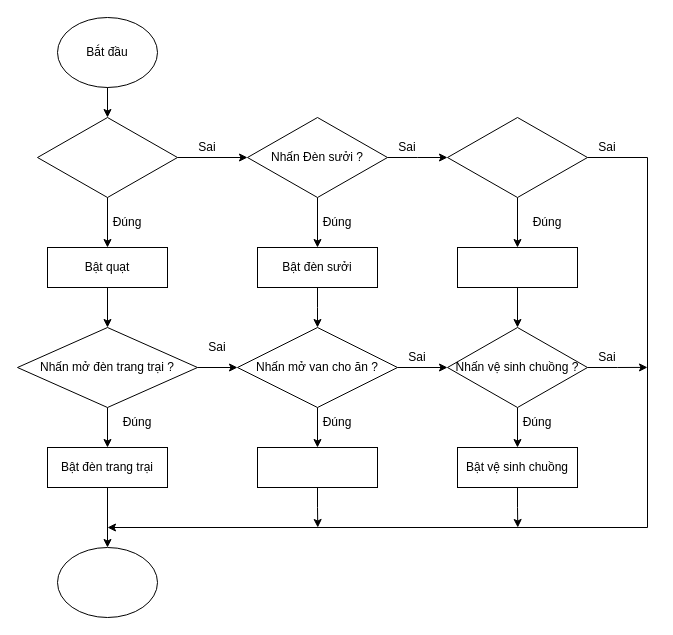
Image size: 673x635. Some labels were removed from this diagram. The shapes that lost their labels are listed below. From the top down, each one's centre as x and y in pixels, then its label:
At [107,157]: "Nhấn Quạt ?".
At [517,157]: "Nhấn Phun Sương ?".
At [517,267]: "Bật phun sương".
At [317,467]: "Mở van cho ăn".
At [107,582]: "Kết thúc".
